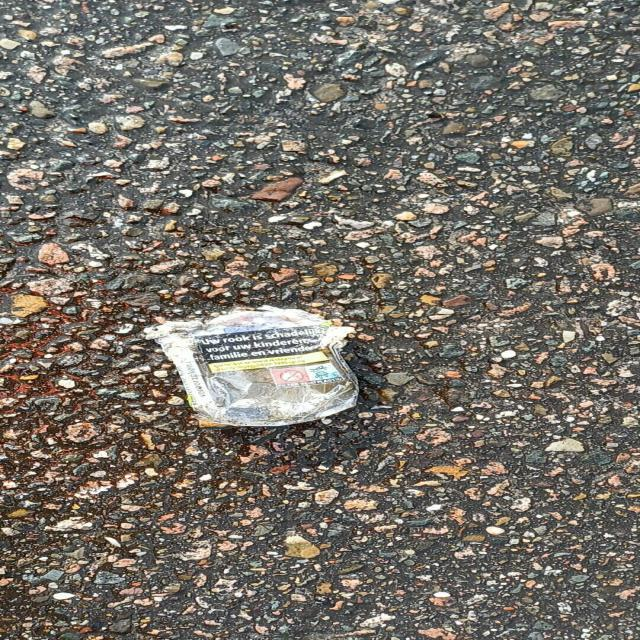Paper: (138, 302, 362, 428)
